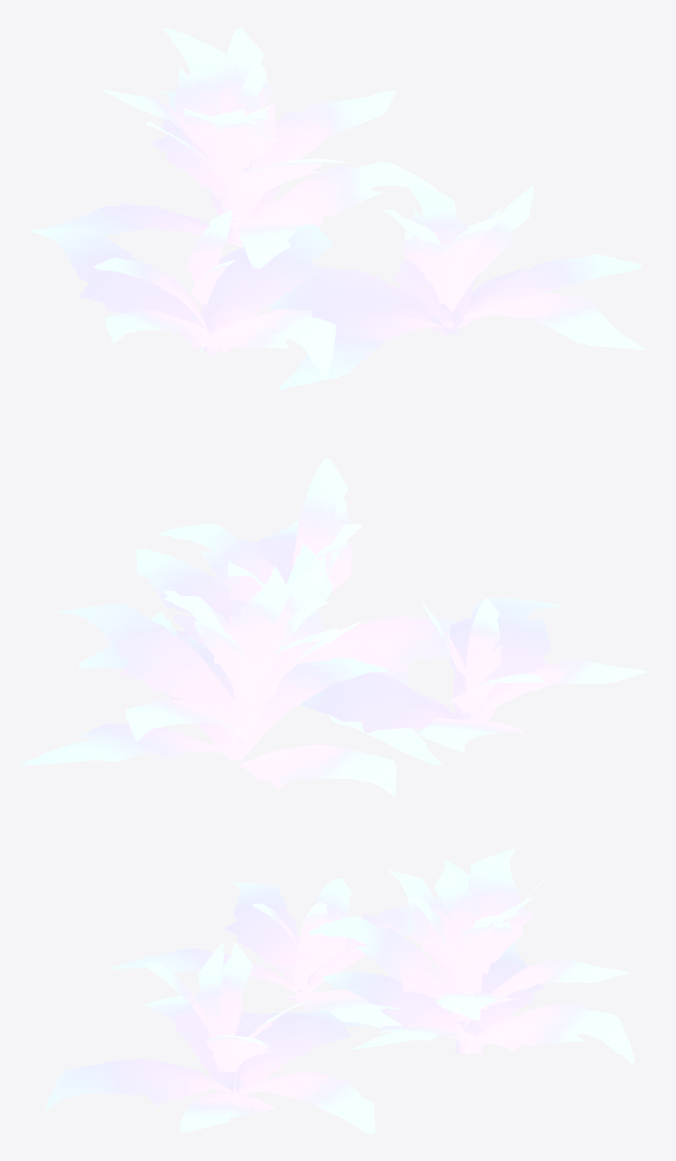
3 views of the same model, one above another, from view 1: azimuth 30°, elevation 25°; view 2: azimuth 150°, elevation 25°; view 3: azimuth 270°, elevation 25° (orthographic). The views are drawn at different scales.
Parts seen in each view (by area): view 1: SM_FH_Fox_Glove_04_LOD0; view 2: SM_FH_Fox_Glove_04_LOD0; view 3: SM_FH_Fox_Glove_04_LOD0.
Boxes of the visible parts, x1=… form: SM_FH_Fox_Glove_04_LOD0: x1=29, y1=28, x2=644, y2=389; SM_FH_Fox_Glove_04_LOD0: x1=20, y1=458, x2=647, y2=796; SM_FH_Fox_Glove_04_LOD0: x1=45, y1=848, x2=634, y2=1133.
Size of the model in its own units: 0.6884 by 0.2669 by 0.7598.
1 material, 1 textured.
